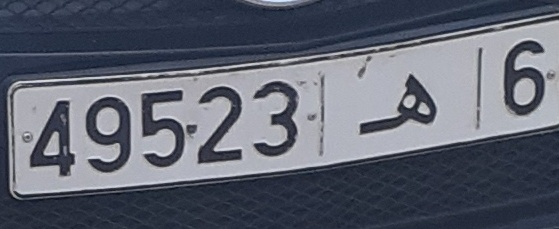2: (194, 79, 245, 169)
3: (250, 72, 306, 162)
4: (26, 94, 78, 184)
5: (138, 84, 186, 171)
6: (497, 36, 547, 119)
9: (80, 88, 133, 177)
h: (340, 66, 449, 138)
